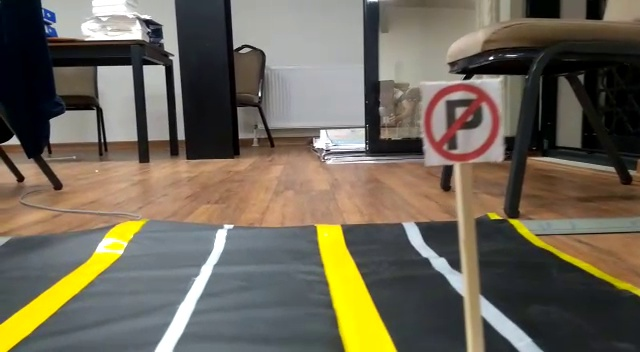park_yapilmaz: (415, 78, 501, 162)
